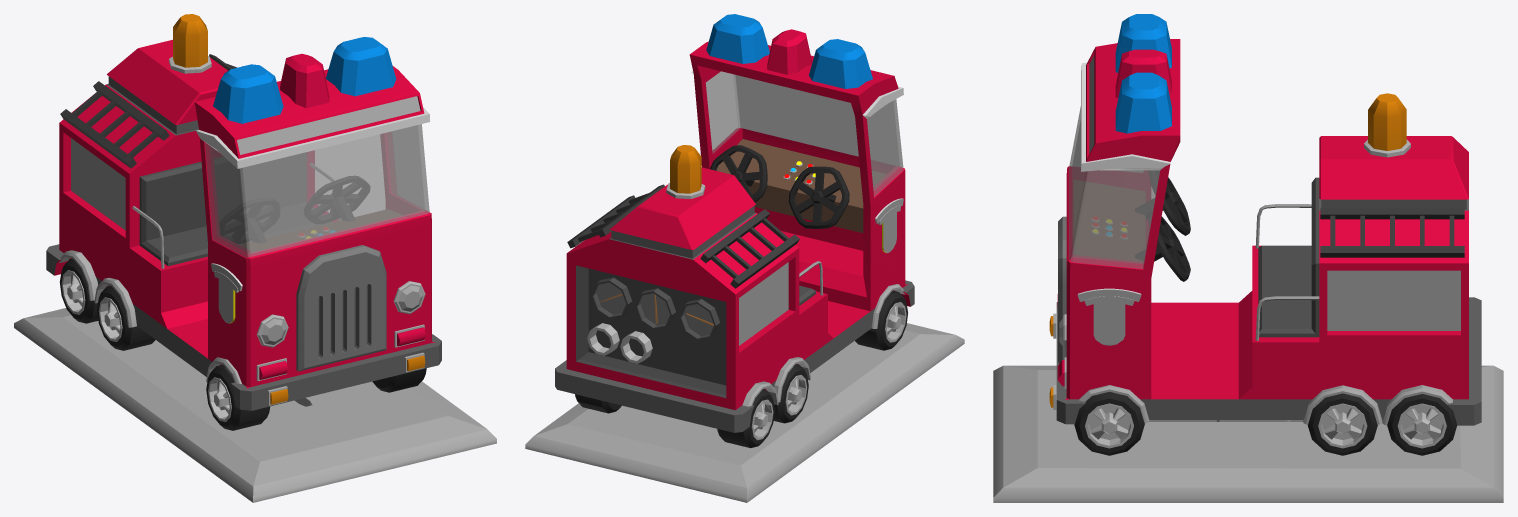
The model's file is FireEngine.fbx.
The picture shows the model from 3 angles, left to right: view 1: azimuth 30°, elevation 25°; view 2: azimuth 150°, elevation 25°; view 3: azimuth 270°, elevation 25°; orthographic projection. The views are drawn at different scales.
Visible parts, largest first — view 1: FireEngineBody, Stand5, TopLights1, TopLights2, Tire, OrangeBackLight, Tire1, Wheel, Tire2, Headlights, Wheel1, Tire5 (+2 smaller); view 2: FireEngineBody, Stand5, TopLights1, Wheel1, Tire, OrangeBackLight, TopLights2, Tire2, Wheel, Tire1, Gauge3, Gauge4 (+1 smaller); view 3: FireEngineBody, Stand5, TopLights1, Tire5, Tire4, Tire3, OrangeBackLight, TopLights2, Wheel, Wheel1.
Part boxes in pixels (bbox=[...]): FireEngineBody: bbox=[46, 39, 441, 410]; Stand5: bbox=[14, 308, 496, 502]; TopLights1: bbox=[213, 37, 396, 123]; TopLights2: bbox=[280, 53, 329, 108]; Tire: bbox=[206, 364, 270, 430]; OrangeBackLight: bbox=[169, 14, 211, 73]; Tire1: bbox=[97, 285, 155, 350]; Wheel: bbox=[304, 176, 369, 223]; Tire2: bbox=[59, 258, 98, 323]; Headlights: bbox=[256, 281, 425, 347]; Wheel1: bbox=[219, 198, 279, 243]; Tire5: bbox=[372, 368, 426, 392]; FireEngineBody: bbox=[555, 41, 914, 432]; Stand5: bbox=[525, 323, 964, 502]; TopLights1: bbox=[706, 14, 872, 88]; Wheel1: bbox=[788, 166, 849, 228]; Tire: bbox=[855, 290, 907, 350]; OrangeBackLight: bbox=[666, 145, 705, 199]; TopLights2: bbox=[767, 29, 811, 74]; Tire2: bbox=[717, 389, 774, 448]; Wheel: bbox=[710, 145, 767, 202]; Tire1: bbox=[773, 364, 808, 423]; Gauge3: bbox=[635, 288, 675, 329]; Gauge4: bbox=[591, 277, 632, 319]; FireEngineBody: bbox=[1056, 39, 1481, 425]; Stand5: bbox=[993, 365, 1503, 502]; TopLights1: bbox=[1115, 14, 1171, 133]; Tire5: bbox=[1074, 392, 1144, 455]; Tire4: bbox=[1307, 393, 1377, 455]; Tire3: bbox=[1387, 394, 1457, 455]; OrangeBackLight: bbox=[1364, 93, 1410, 157]; TopLights2: bbox=[1115, 49, 1171, 97]; Wheel: bbox=[1148, 213, 1190, 281]; Wheel1: bbox=[1149, 170, 1190, 235].
Bounding box in the file's own units: 177 × 252 × 301.
